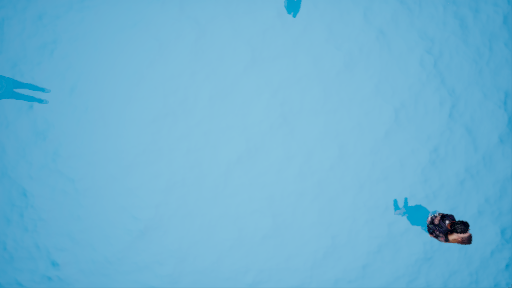person: (388, 196, 487, 247)
